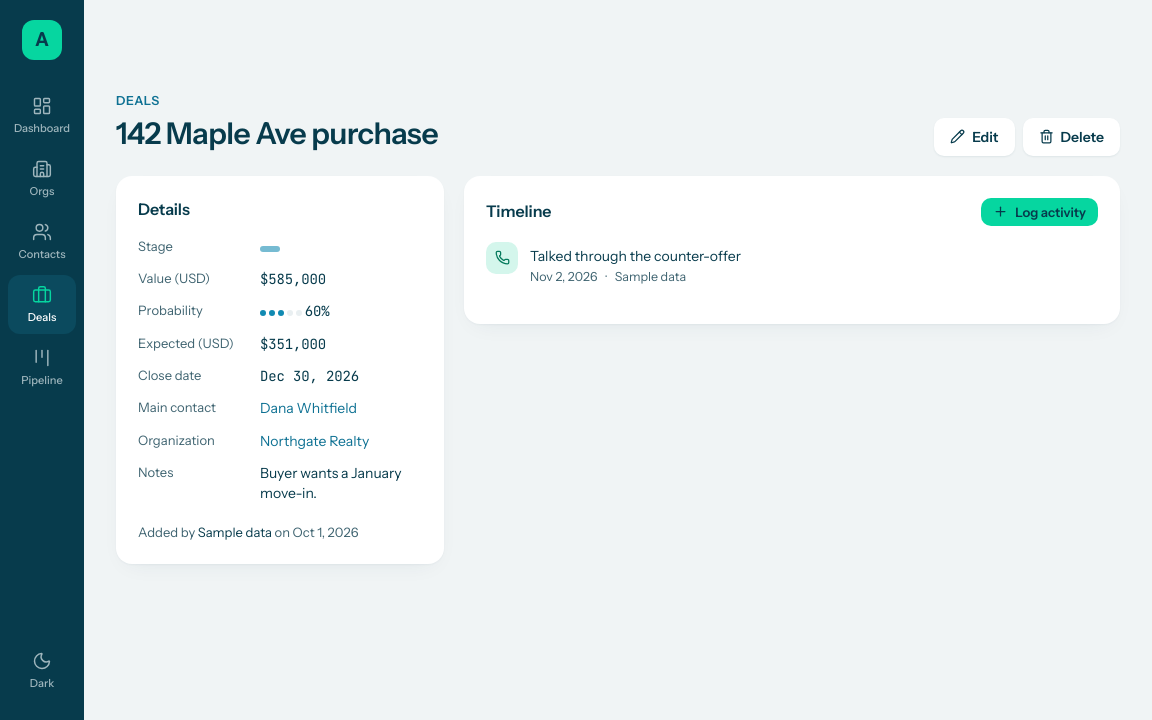
Test case: a deal's page › waits for the stages before showing the edit form
Step 1. Click the button "Edit" → point(974, 137), box [934,118,1014,156]
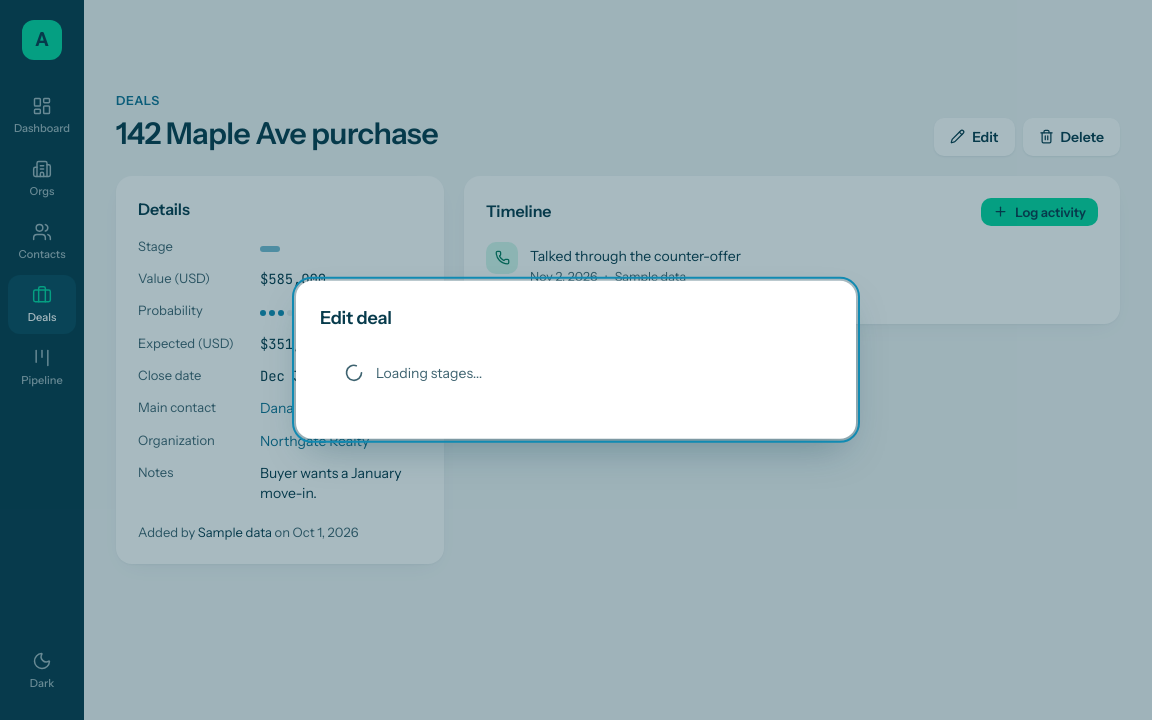
expect the text "Loading stages..." is shown: met, box [376,363,482,383]
